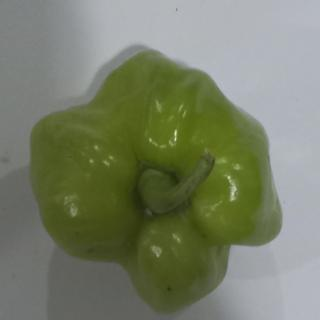Grade-B: (23, 42, 285, 311)
